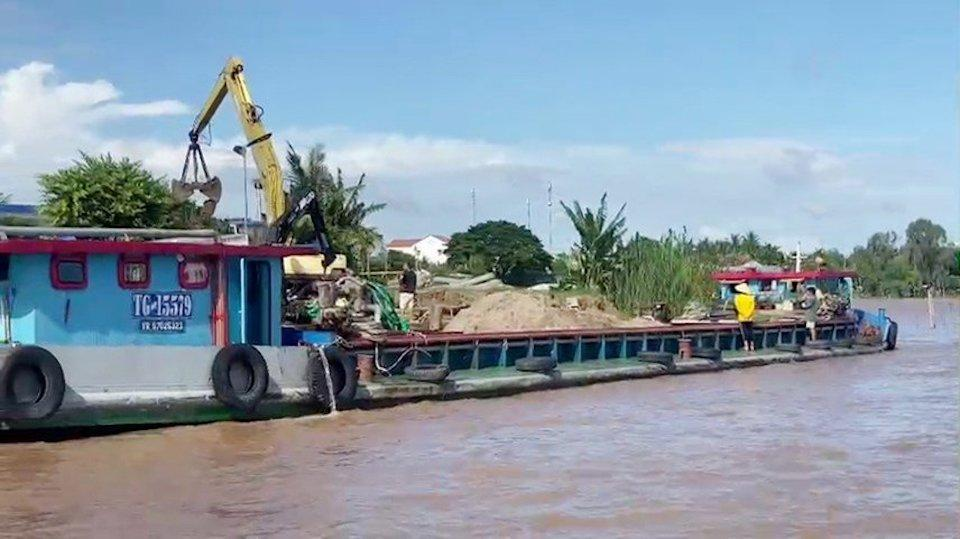Ship: (6, 210, 900, 435)
